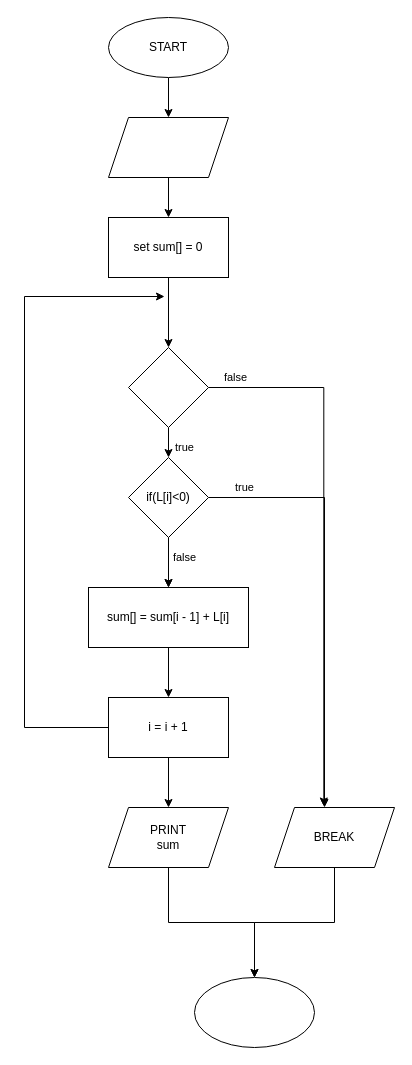
This 412x1065 diagram has some shape labels left out. Here are the shapes that lost their labels. From the top down, the centre of each, then its label:
point (168, 147): READ N, L[]
point (168, 387): if(i <= N-1
point (254, 1012): END
